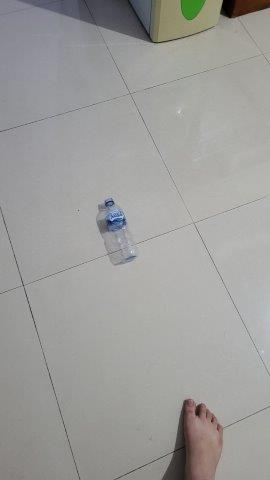botolplastik: (101, 196, 134, 265)
